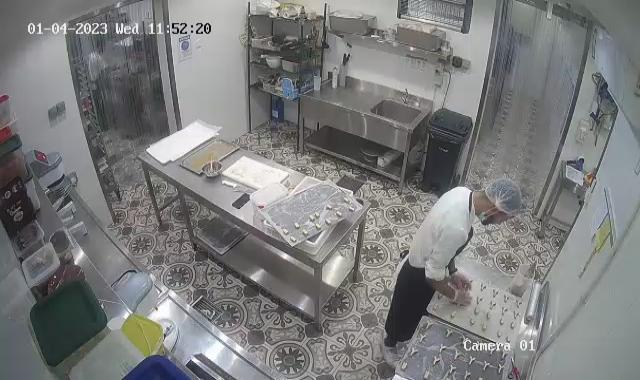hairnet: (483, 174, 524, 221)
